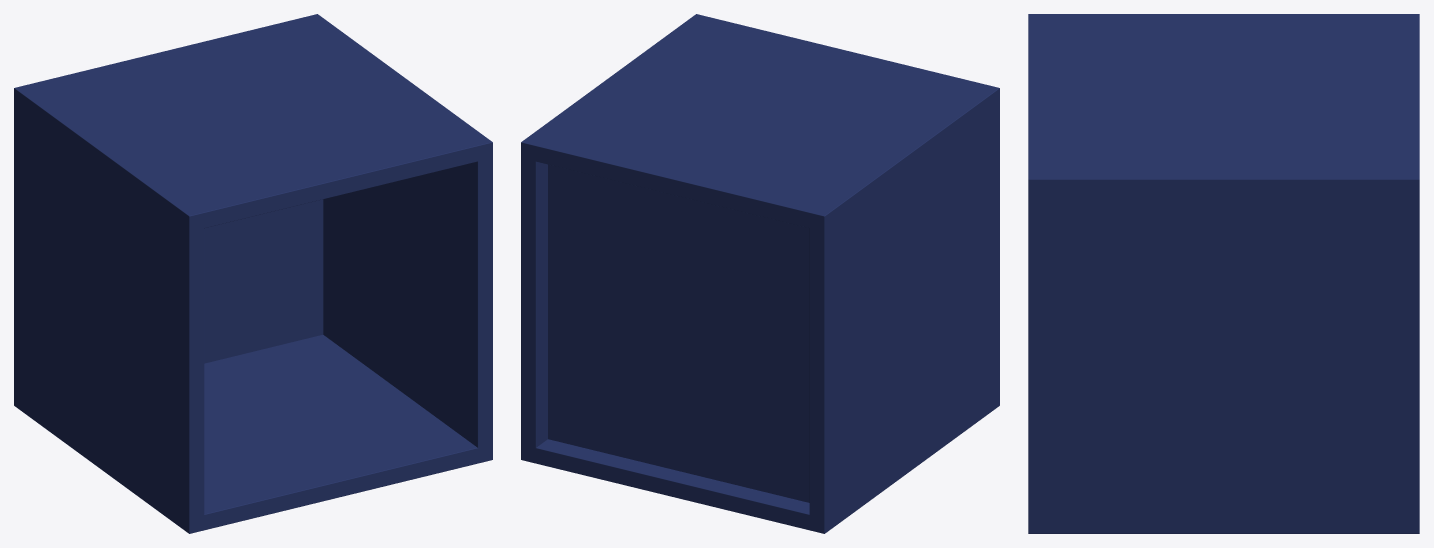
The model's file is MOD_1X1_A_B_AF.glb.
3 views of the same model, side by side, from view 1: azimuth 30°, elevation 25°; view 2: azimuth 150°, elevation 25°; view 3: azimuth 270°, elevation 25° (orthographic). The views are drawn at different scales.
Bounding box in the file's own units: 360 × 360 × 360.
